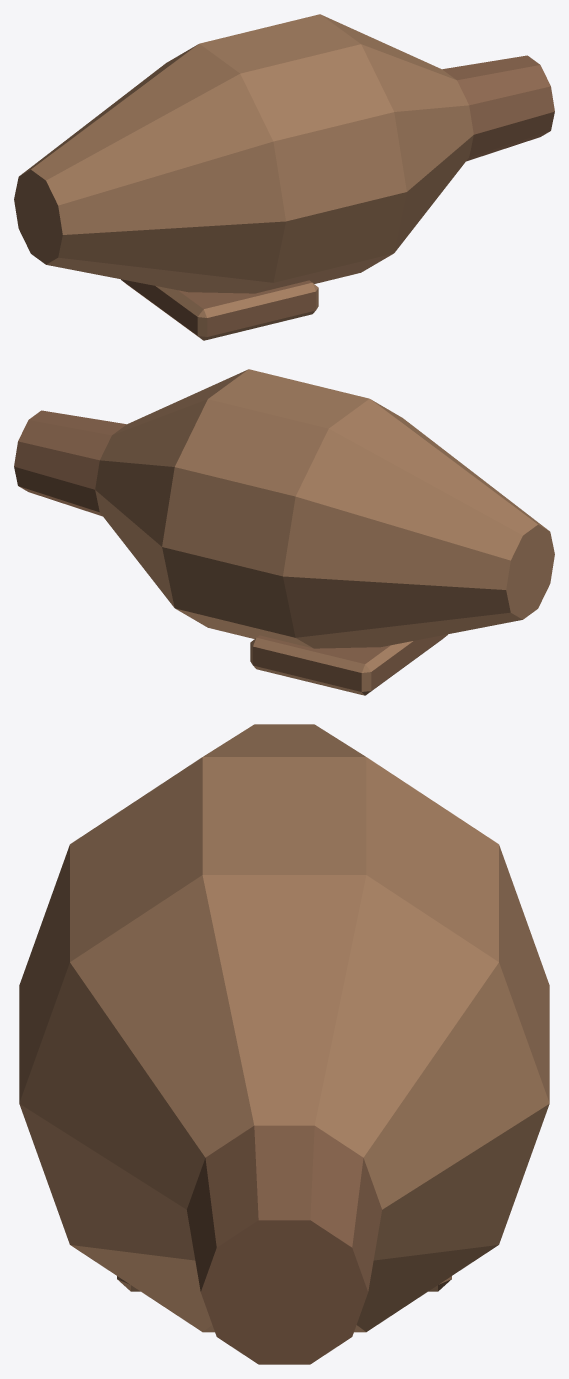
Rendered from amphora_3.glb.
The picture shows the model from 3 angles, top to bottom: view 1: azimuth 30°, elevation 25°; view 2: azimuth 150°, elevation 25°; view 3: azimuth 270°, elevation 25°; orthographic projection. The views are drawn at different scales.
Visible parts, largest first — view 1: Amphora_3; view 2: Amphora_3; view 3: Amphora_3.
Boxes of the visible parts, bbox=[...] form: Amphora_3: bbox=[14, 14, 554, 340]; Amphora_3: bbox=[14, 369, 554, 695]; Amphora_3: bbox=[19, 724, 549, 1364].
Bounding box in the file's own units: 0.82 × 0.3807 × 0.38.
